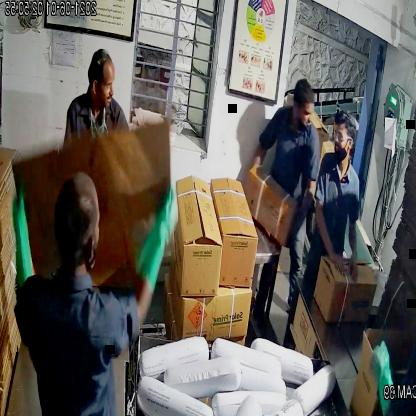goggles: (330, 130, 356, 148)
